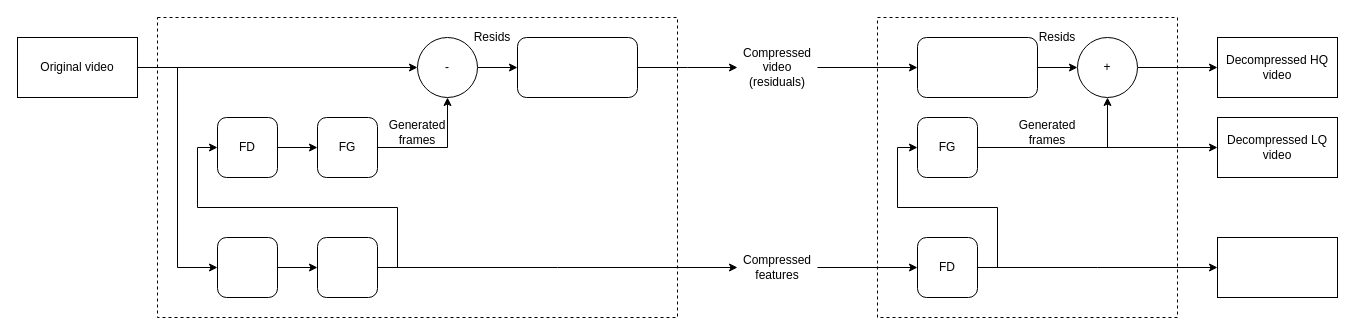
Some shapes in this 1355 by 335 pixel diagram are drawn without their labels. The shapes that lost their labels are listed below. From the top down, each one's centre as x and y in pixels, then its label:
point 577,67: h265 compression
point 977,67: h265 decompression
point 247,267: FE
point 347,267: FC
point 1277,267: Machine analytics
